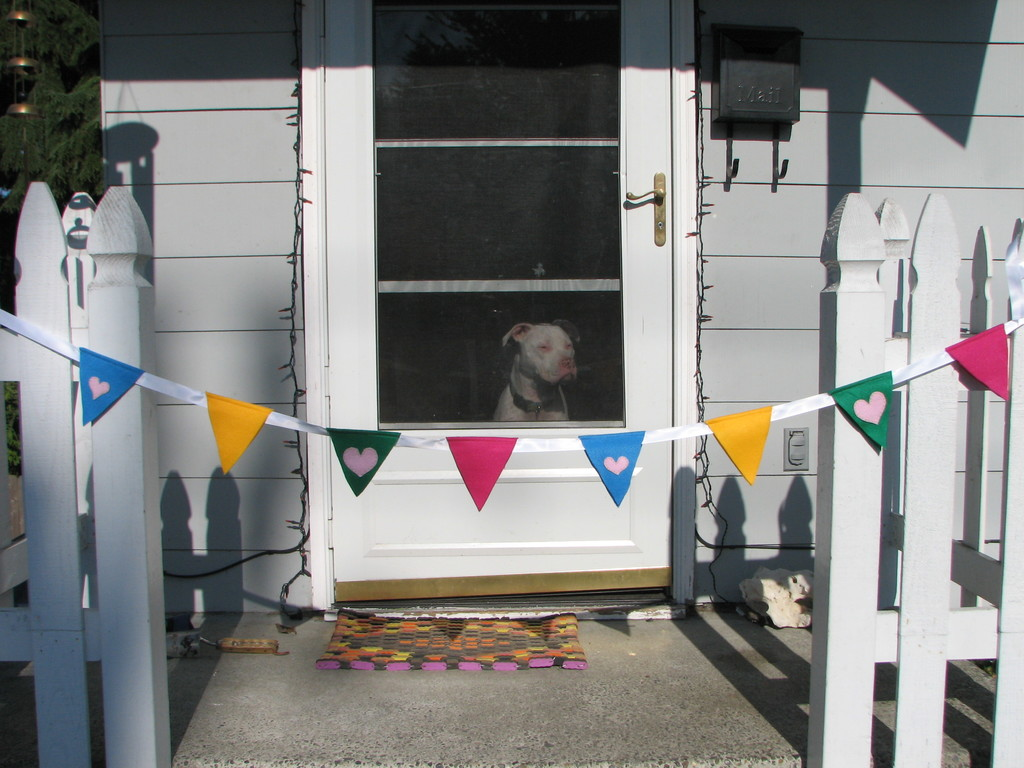Door: (323, 4, 673, 598)
